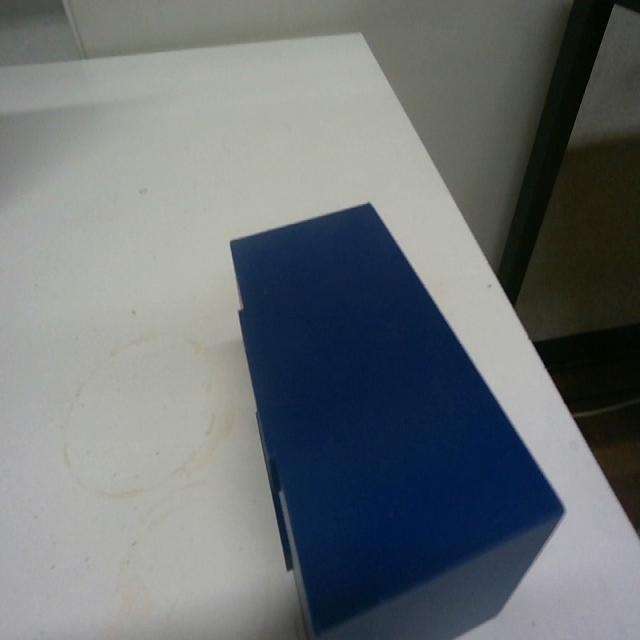Blue Cuboid: (227, 198, 566, 638)
